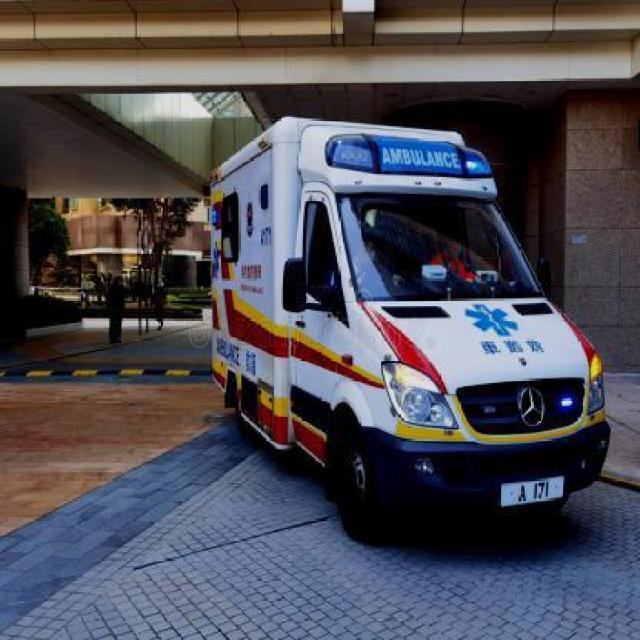Ambulance: (178, 87, 583, 501)
